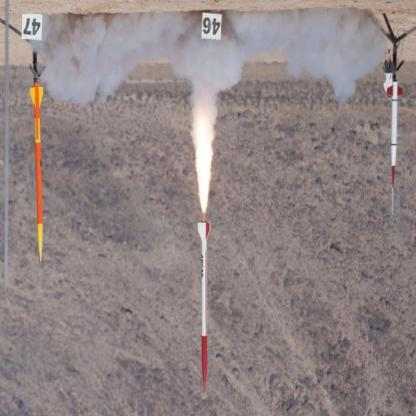MIL_TBM: (29, 87, 48, 266), (197, 220, 211, 394), (388, 79, 402, 183)
